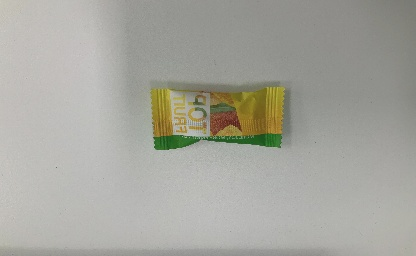jeli: (147, 81, 289, 155)
